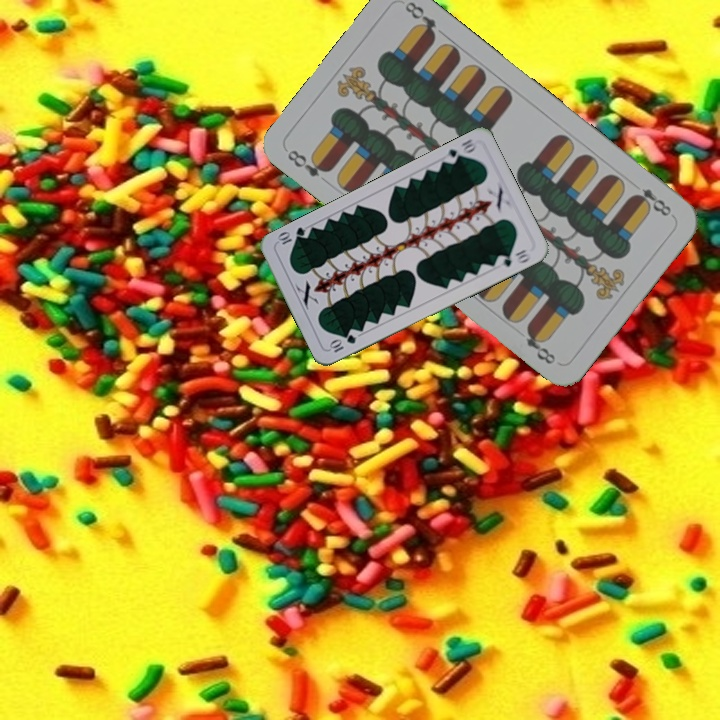E8: (283, 145, 334, 180), (627, 184, 674, 219)
G10: (440, 135, 478, 167), (325, 330, 359, 355)
